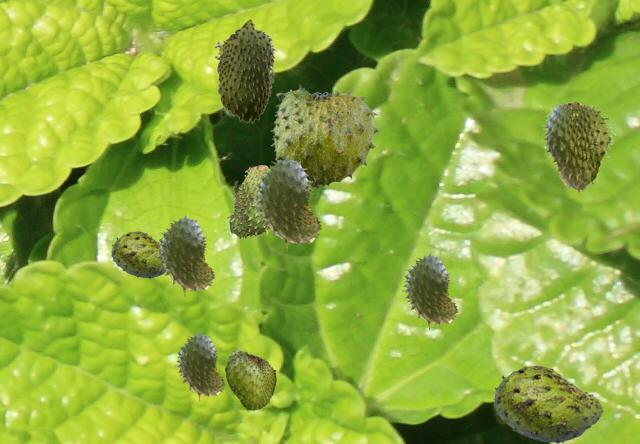guyabano: (270, 84, 379, 188), (493, 365, 602, 442), (541, 101, 615, 192), (253, 155, 321, 250), (214, 18, 276, 122), (156, 214, 214, 296), (402, 252, 457, 329), (175, 331, 224, 400), (226, 165, 270, 238), (225, 349, 275, 409), (111, 231, 165, 277)
